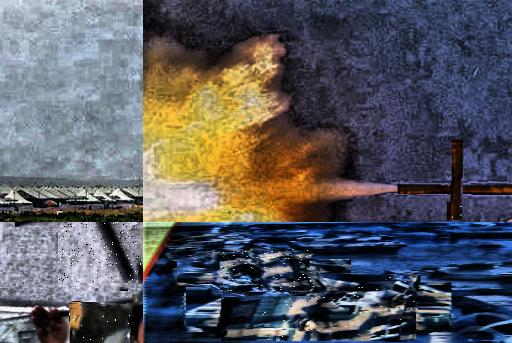tanks: (222, 277, 418, 342), (383, 262, 512, 299), (222, 250, 316, 293), (166, 233, 289, 265), (454, 296, 512, 343), (99, 223, 141, 283), (72, 306, 132, 343), (291, 236, 407, 254), (439, 227, 512, 243), (450, 141, 463, 222)
